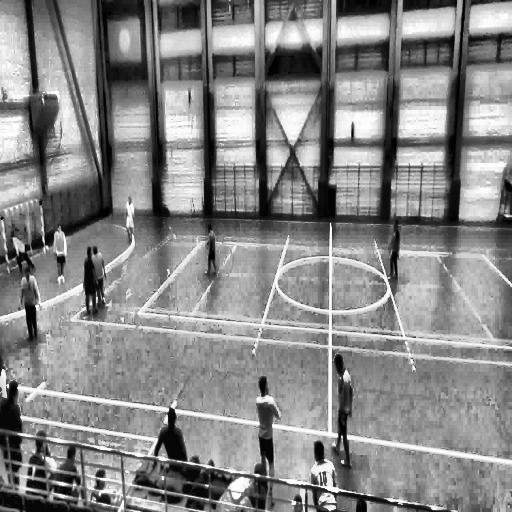ball: (45, 243, 50, 256)
player: (257, 375, 281, 510), (334, 355, 354, 470), (311, 440, 338, 511), (19, 265, 40, 339), (7, 234, 36, 273), (84, 246, 100, 316), (52, 222, 67, 284), (386, 218, 400, 281), (206, 223, 217, 279), (126, 196, 136, 246)
